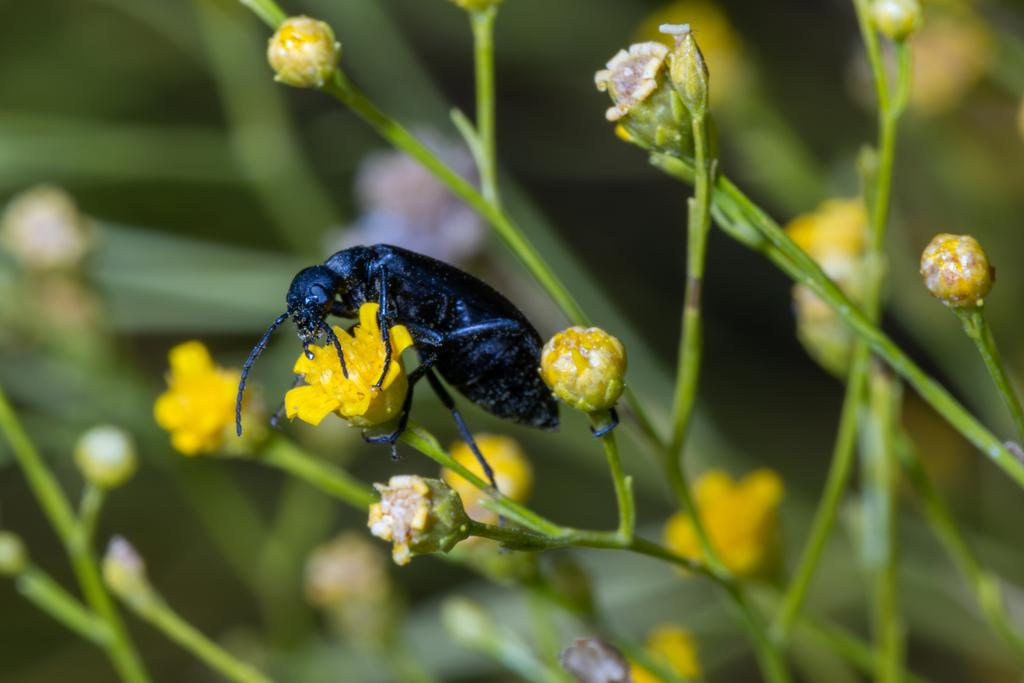blister_beetle: (209, 183, 626, 519)
